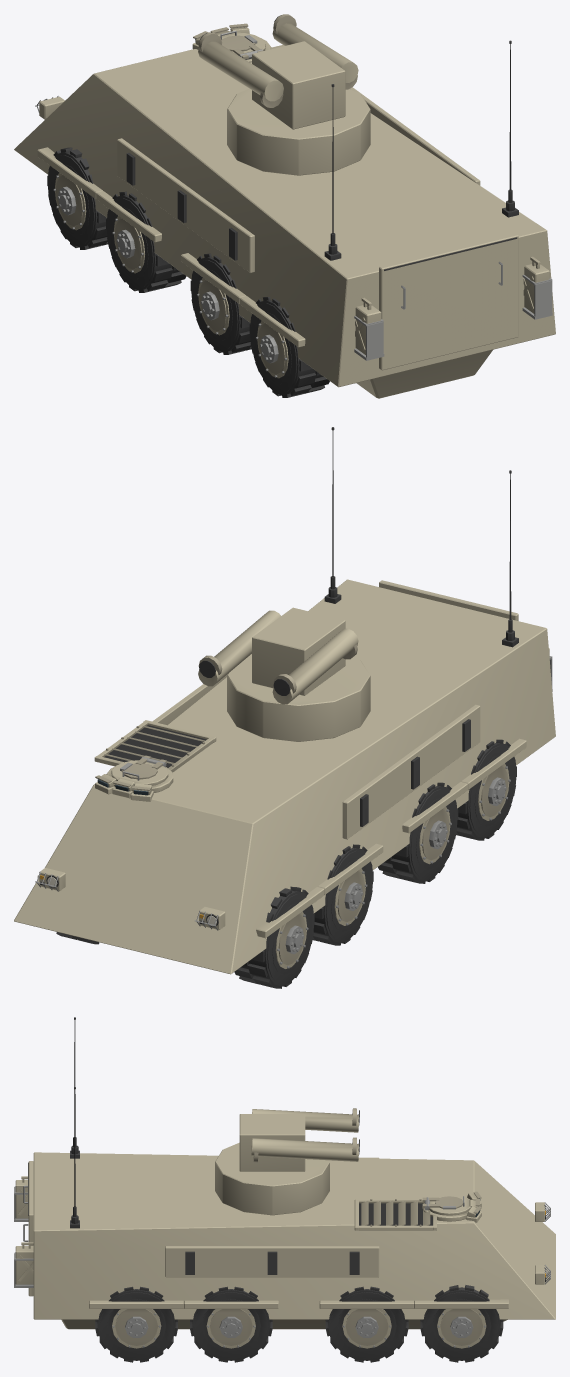
Rendered from usa_td_lavat.glb.
3 renders of one model, top to bottom at view 1: azimuth 30°, elevation 25°; view 2: azimuth 150°, elevation 25°; view 3: azimuth 270°, elevation 25°, orthographic. The views are drawn at different scales.
Parts seen in each view (by area): view 1: body, door, turret, wheel_6, wheel_2, barrel, wheel_0, wheel_4; view 2: body, turret, barrel, wheel_0, wheel_4, wheel_2, wheel_6, door; view 3: body, turret, wheel_1, wheel_3, wheel_5, wheel_7, barrel, door.
Part boxes in pixels (box(x1,y1,x2,y2)): body: box(14, 23, 555, 398); door: box(379, 233, 518, 370); turret: box(227, 41, 370, 175); wheel_6: box(249, 297, 329, 397); wheel_2: box(106, 191, 186, 292); barrel: box(198, 14, 358, 107); wheel_0: box(47, 147, 107, 249); wheel_4: box(190, 253, 251, 354); body: box(14, 427, 555, 974); turret: box(227, 607, 370, 741); barrel: box(198, 610, 358, 704); wheel_0: box(234, 886, 314, 988); wheel_4: box(378, 782, 458, 883); wheel_2: box(312, 844, 373, 945); wheel_6: box(456, 739, 516, 840); door: box(379, 580, 518, 620); body: box(14, 1017, 555, 1329); turret: box(215, 1114, 329, 1215); wheel_1: box(420, 1285, 503, 1362); wheel_3: box(325, 1286, 408, 1362); wheel_5: box(190, 1286, 272, 1362); wheel_7: box(95, 1286, 177, 1362); barrel: box(251, 1108, 359, 1162); door: box(23, 1161, 33, 1296).
Size of the model in its own units: 2.66 by 3.59 by 6.58.
